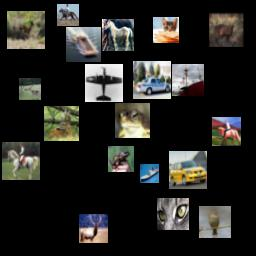airplane: (85, 64, 123, 102)
automobile: (169, 151, 207, 189), (133, 61, 171, 99)
bird: (199, 206, 231, 238)
cat: (157, 198, 189, 230), (153, 17, 179, 43)
deer: (7, 11, 45, 49), (44, 106, 79, 141), (209, 12, 244, 47), (79, 214, 108, 243), (19, 78, 41, 100)
frog: (115, 103, 150, 138), (108, 146, 134, 172)
ship: (66, 27, 101, 62), (172, 64, 204, 96), (140, 164, 159, 183)
